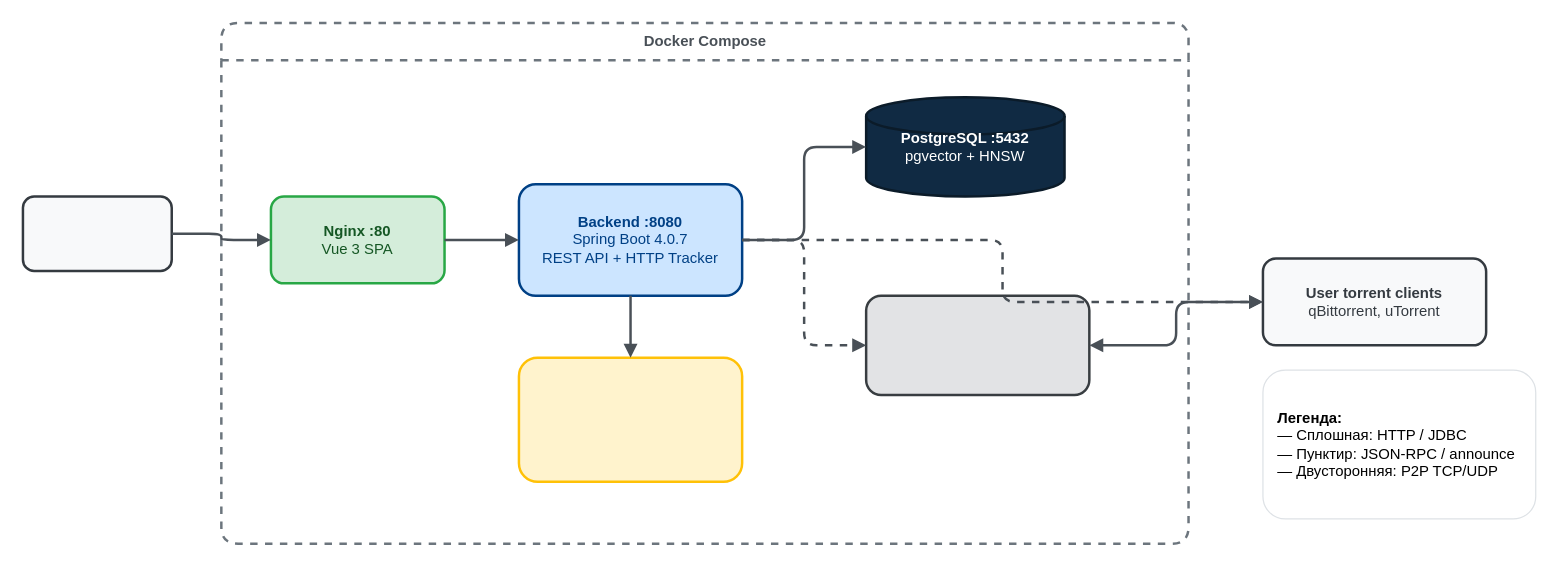
The diagram is 1557 pixels wide and 565 high, and some of its shapes have lost their labels. The shapes that lost their labels are listed below. From the top down, each one's centre as x and y in pixels, then its label:
(96,233): Browser
(977,345): Transmission :9091 RPC / :51413 P2P Torrent seeder
(630,419): AI Service :8000 FastAPI + PyTorch HF sentence-transformers HF MarianMT
